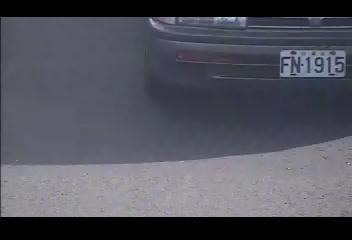plate: (278, 46, 346, 78)
